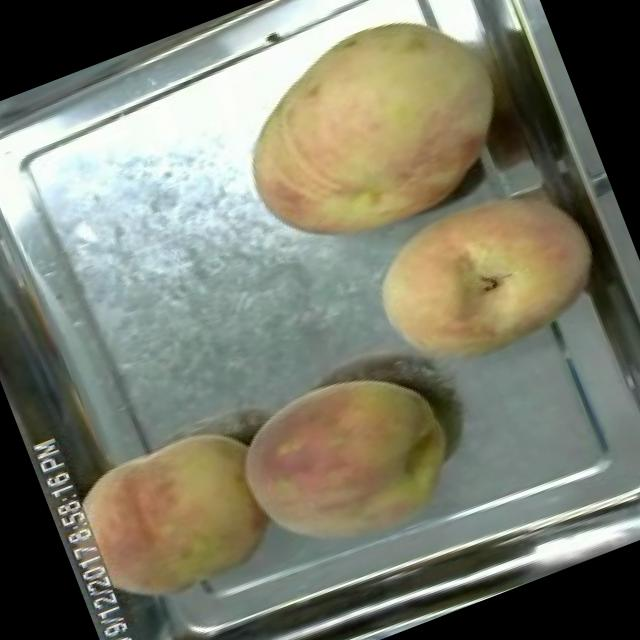Fruit: (205, 0, 539, 277), (340, 147, 628, 399), (215, 340, 482, 586), (47, 408, 296, 634)
